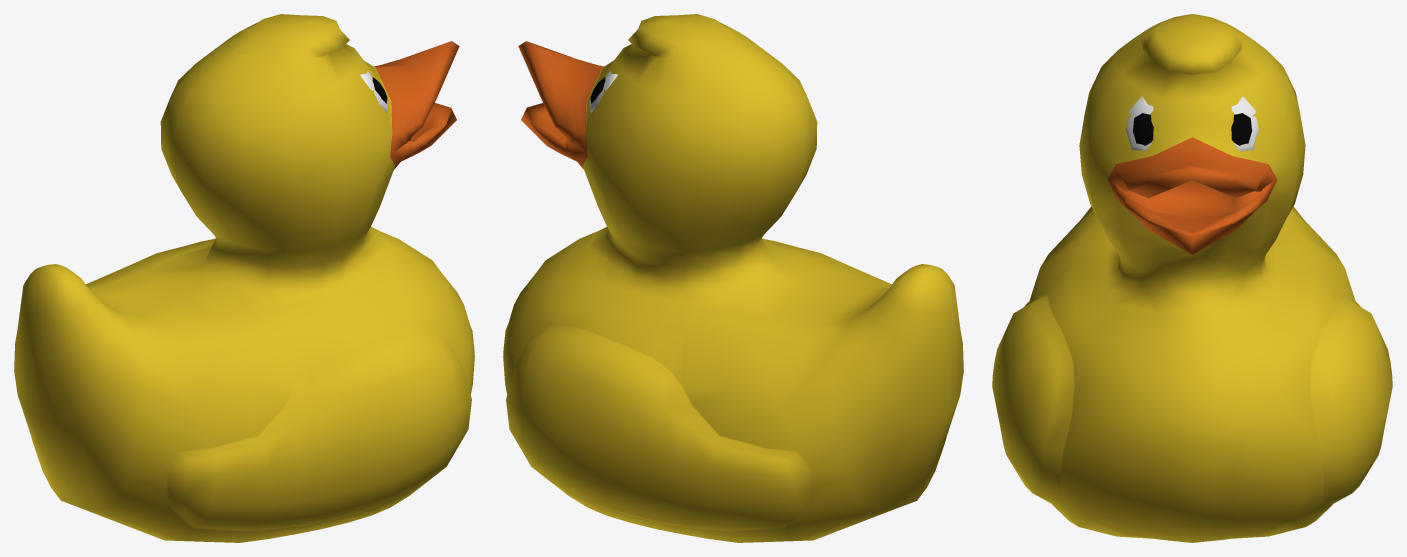
The model's file is duck.glb.
3 renders of one model, left to right at view 1: azimuth 30°, elevation 25°; view 2: azimuth 150°, elevation 25°; view 3: azimuth 270°, elevation 25°, orthographic. The views are drawn at different scales.
Parts seen in each view (by area): view 1: Duck001; view 2: Duck001; view 3: Duck001.
Boxes of the visible parts, x1=… form: Duck001: x1=14, y1=14, x2=474, y2=542; Duck001: x1=503, y1=14, x2=963, y2=542; Duck001: x1=992, y1=14, x2=1392, y2=542.
Bounding box in the file's own units: 0.1374 × 0.14 × 0.1058.
